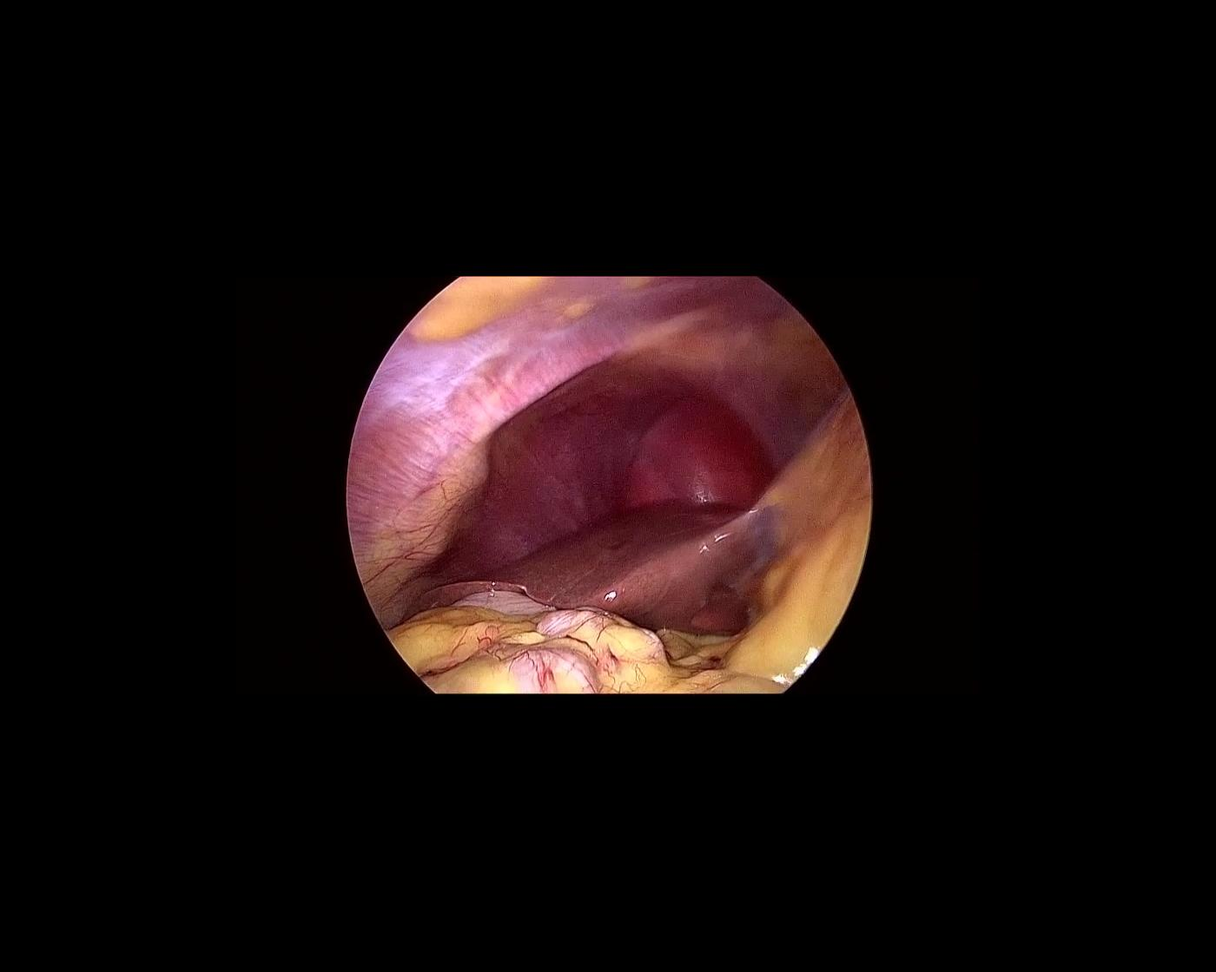Liver: (477, 472, 764, 643)
